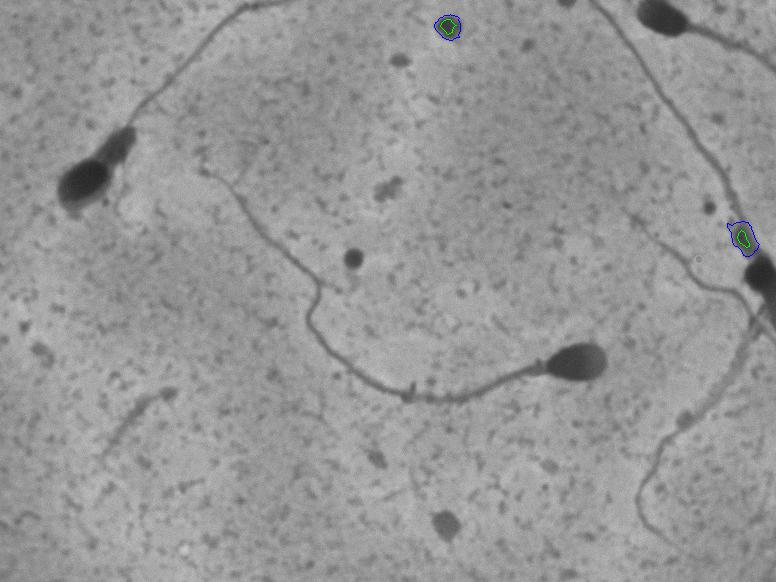Abnormal: (26, 47, 209, 256)
Normal: (188, 174, 648, 472)
